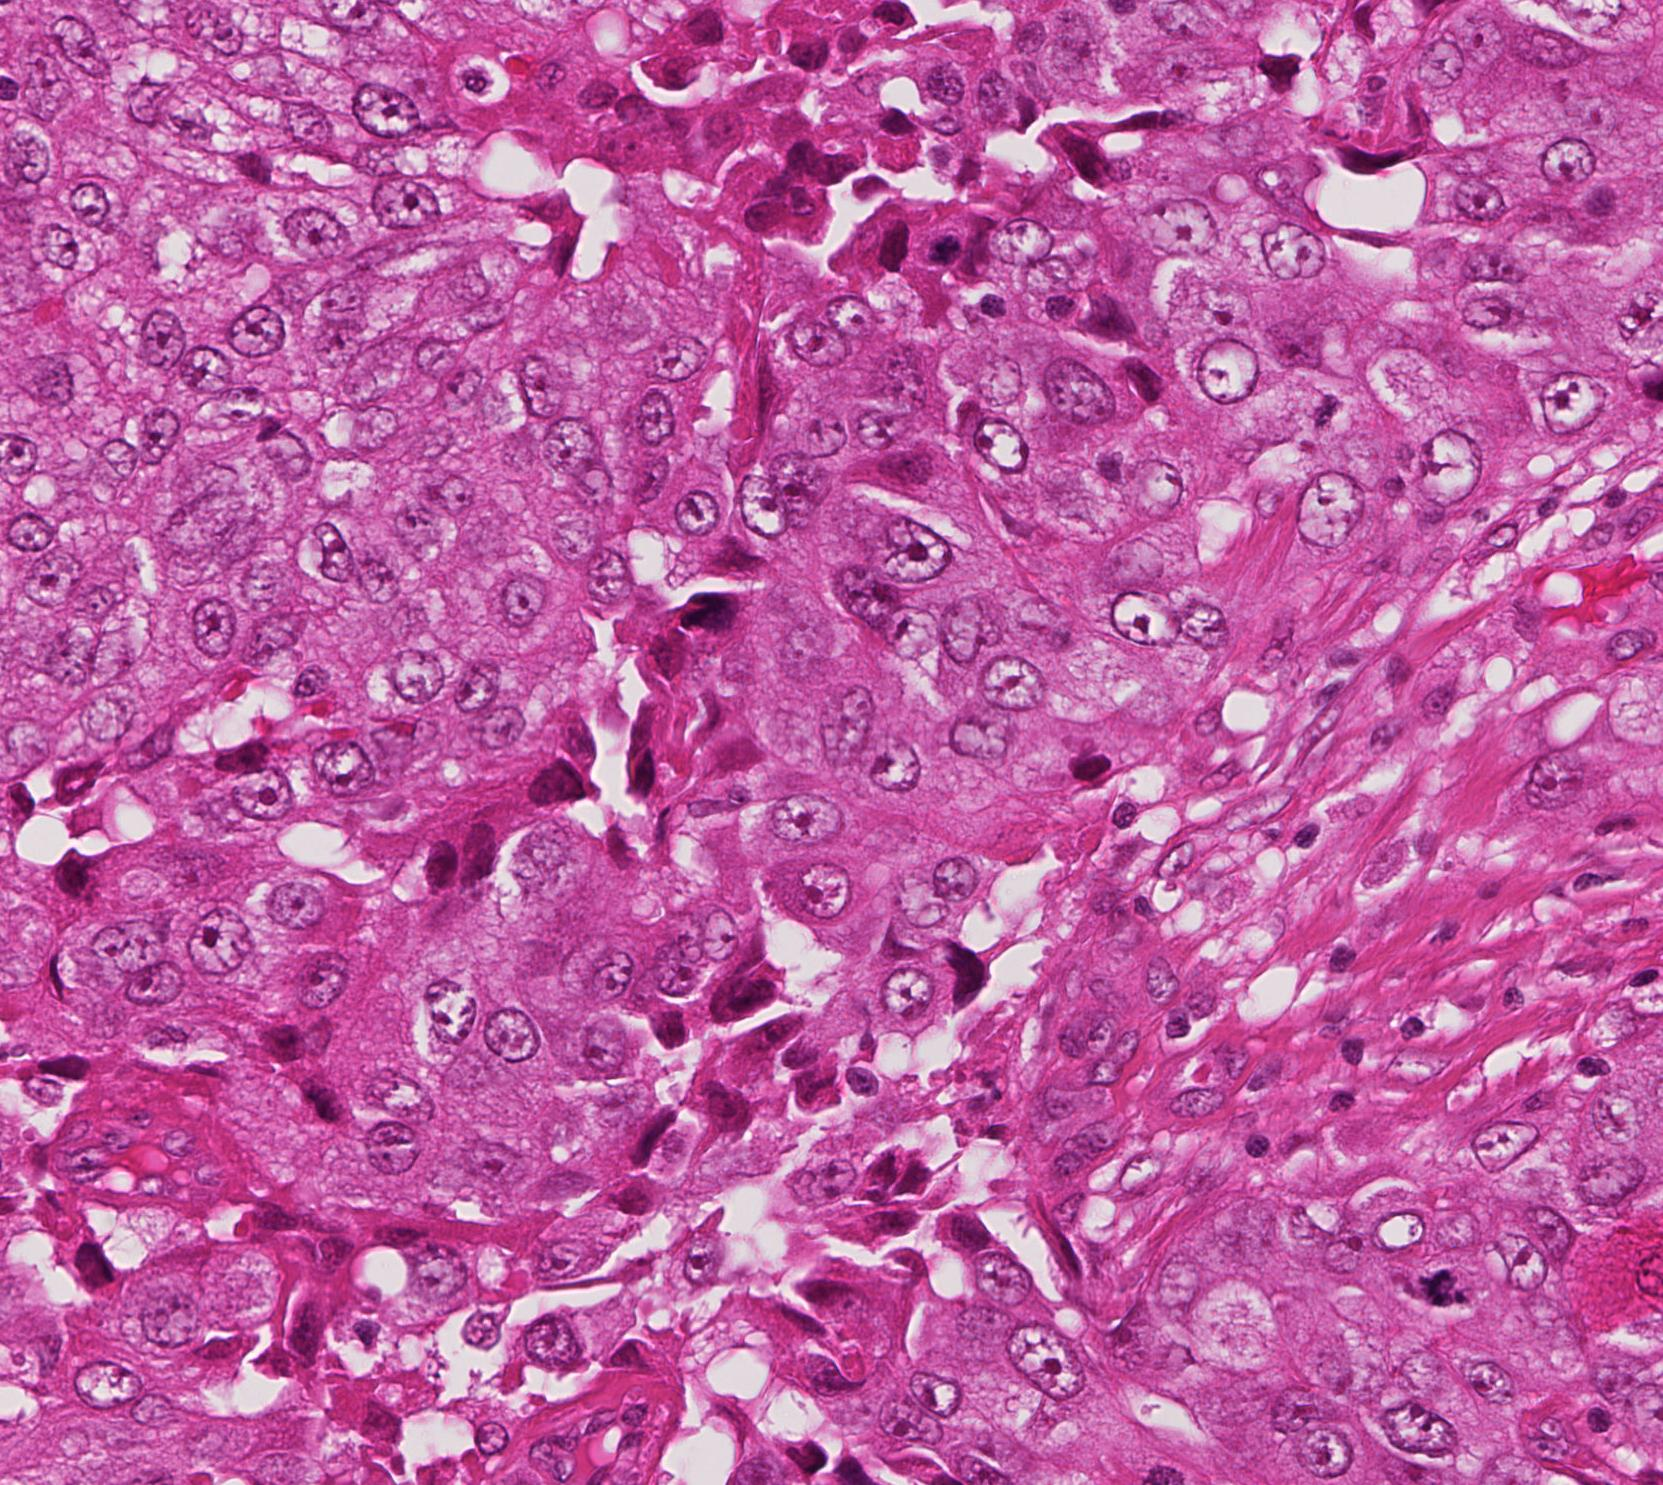mitosis: (1414, 1254, 1474, 1314)
